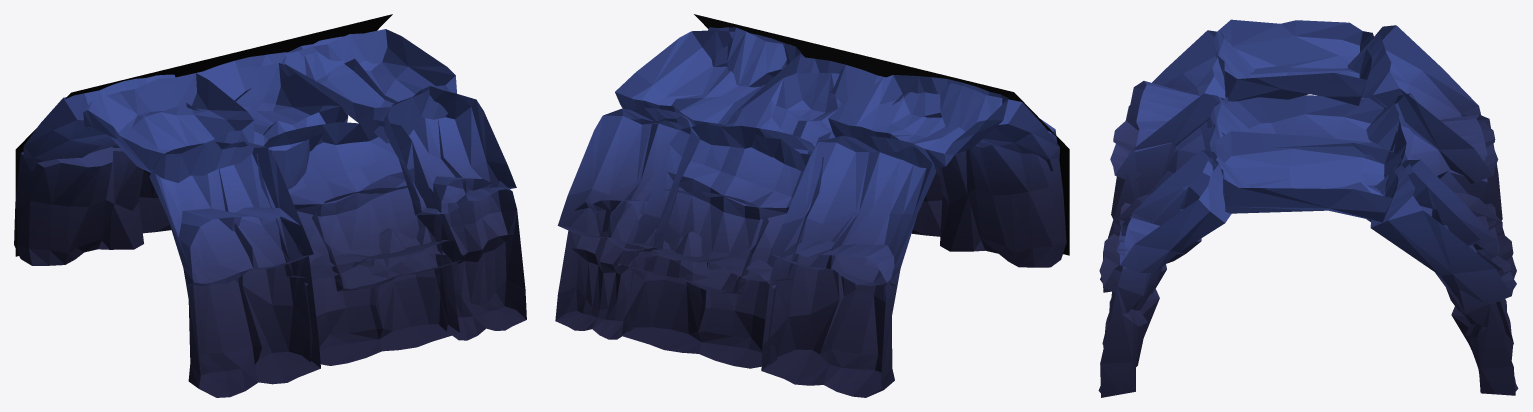
Rendered from modularCave1.fbx.
3 views of the same model, side by side, from view 1: azimuth 30°, elevation 25°; view 2: azimuth 150°, elevation 25°; view 3: azimuth 270°, elevation 25° (orthographic). The views are drawn at different scales.
Visible parts, largest first — view 1: modularCave1; view 2: modularCave1; view 3: modularCave1.
Boxes of the visible parts, x1=… form: modularCave1: x1=14, y1=14, x2=526, y2=397; modularCave1: x1=555, y1=14, x2=1069, y2=397; modularCave1: x1=1098, y1=19, x2=1518, y2=397.
Size of the model in its own units: 4642 by 2979 by 4969.
